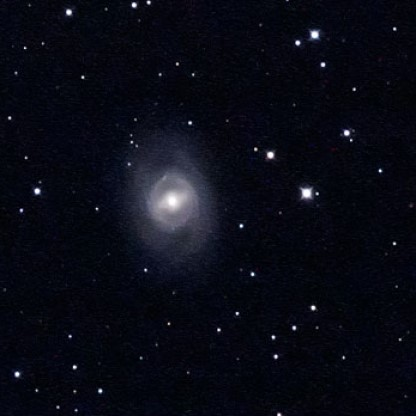Messier 95: (105, 113, 227, 288)
